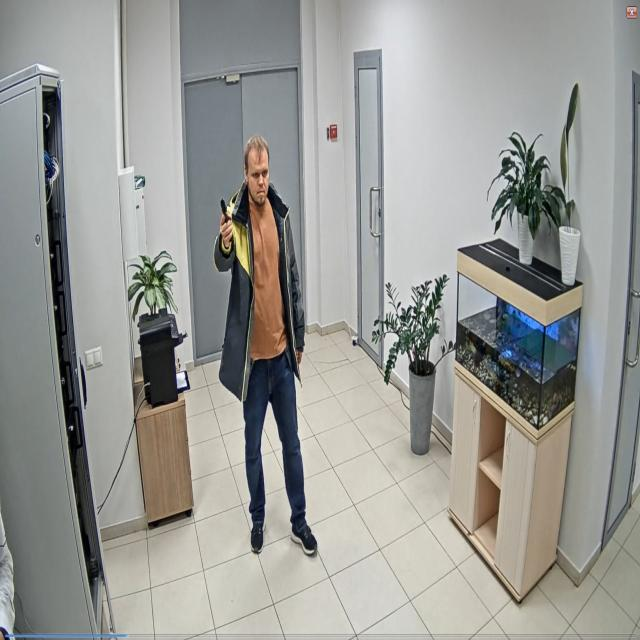-Gun: (220, 198, 232, 224)
